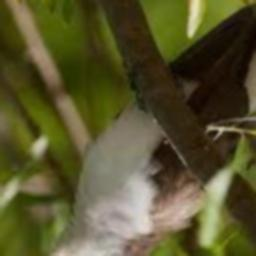Cuckoo: (12, 0, 256, 256)
